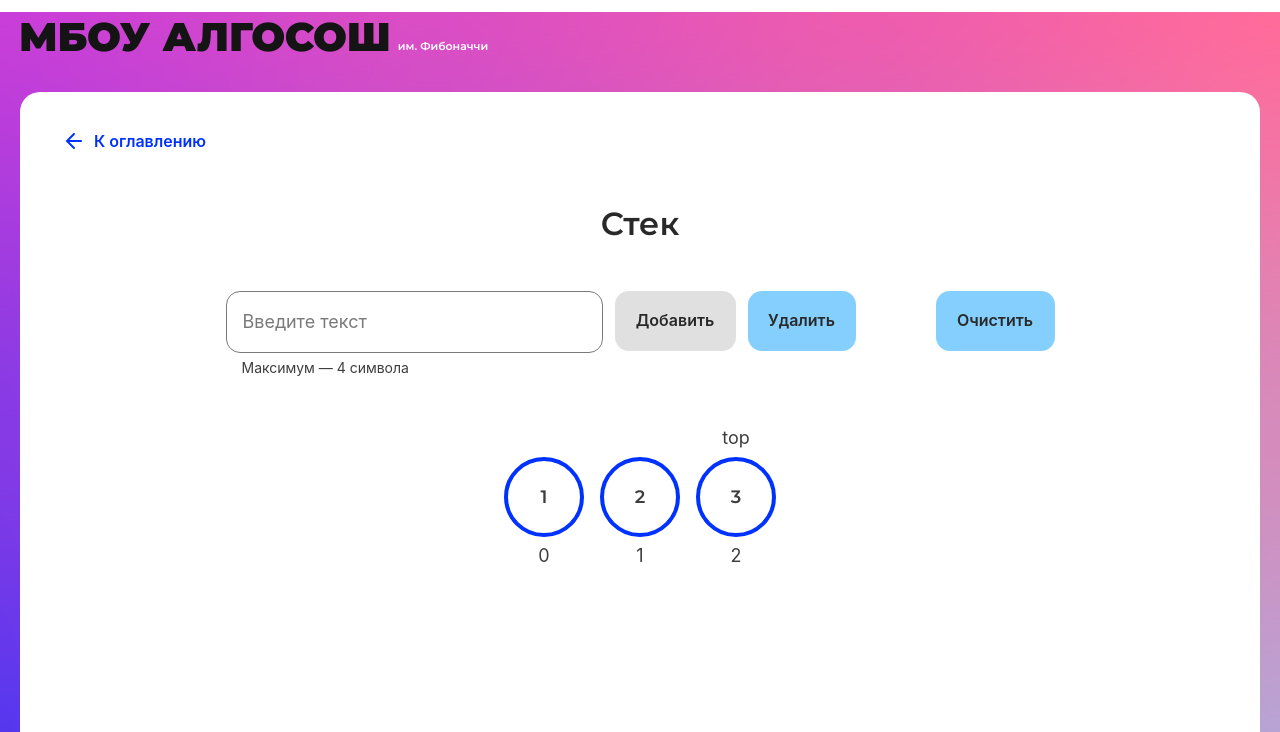
Test: stack page display correctly › should elements delete from the stack correctly
Click the button with test id "deleteBtn": x=802, y=321 [748,291,856,351]
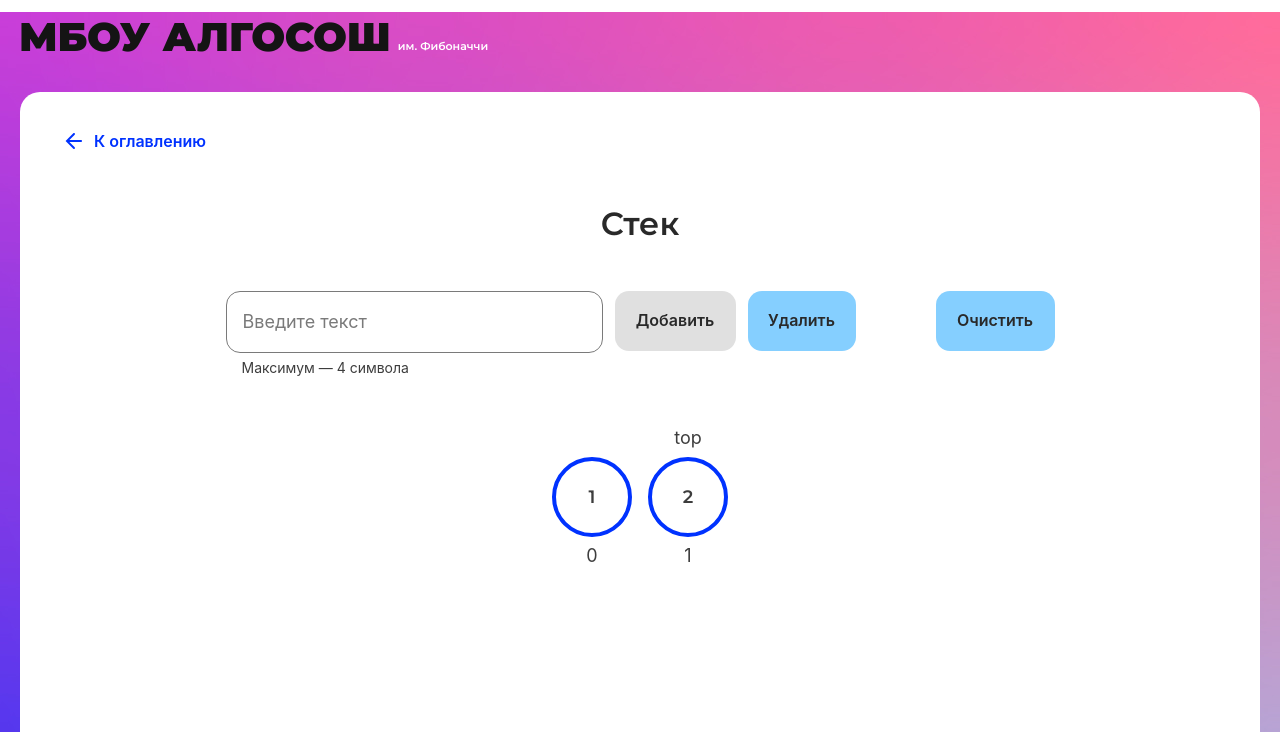
Check: the text with test id "index" reads "0", box [586,545,597,566]
Check: the number of elements with test id "circle" is 2, box [683,486,694,508]
Click the button with test id "deleteBtn": x=802, y=321 [748,291,856,351]
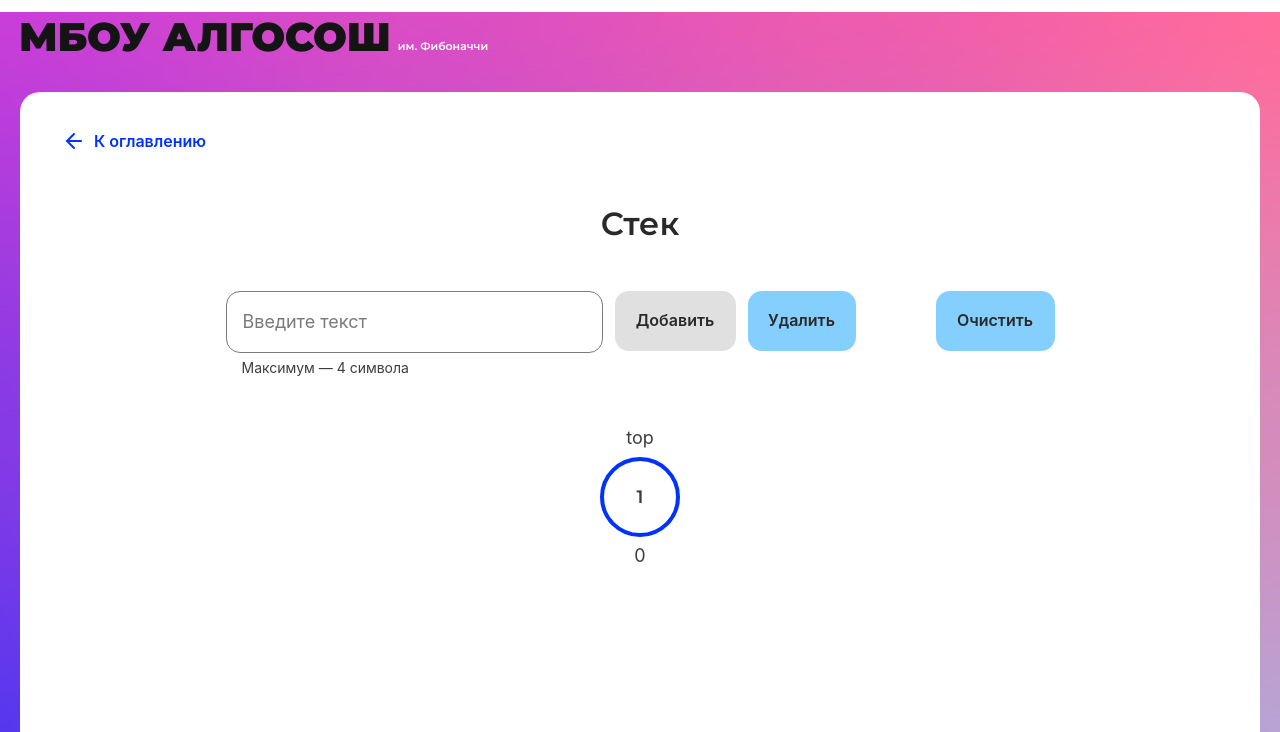
Check: the text with test id "circle" reads "1", box [637,486,644,508]
Check: the number of elements with test id "circle" is 1, box [600,457,680,537]
Click the button with test id "deleteBtn": x=802, y=321 [748,291,856,351]
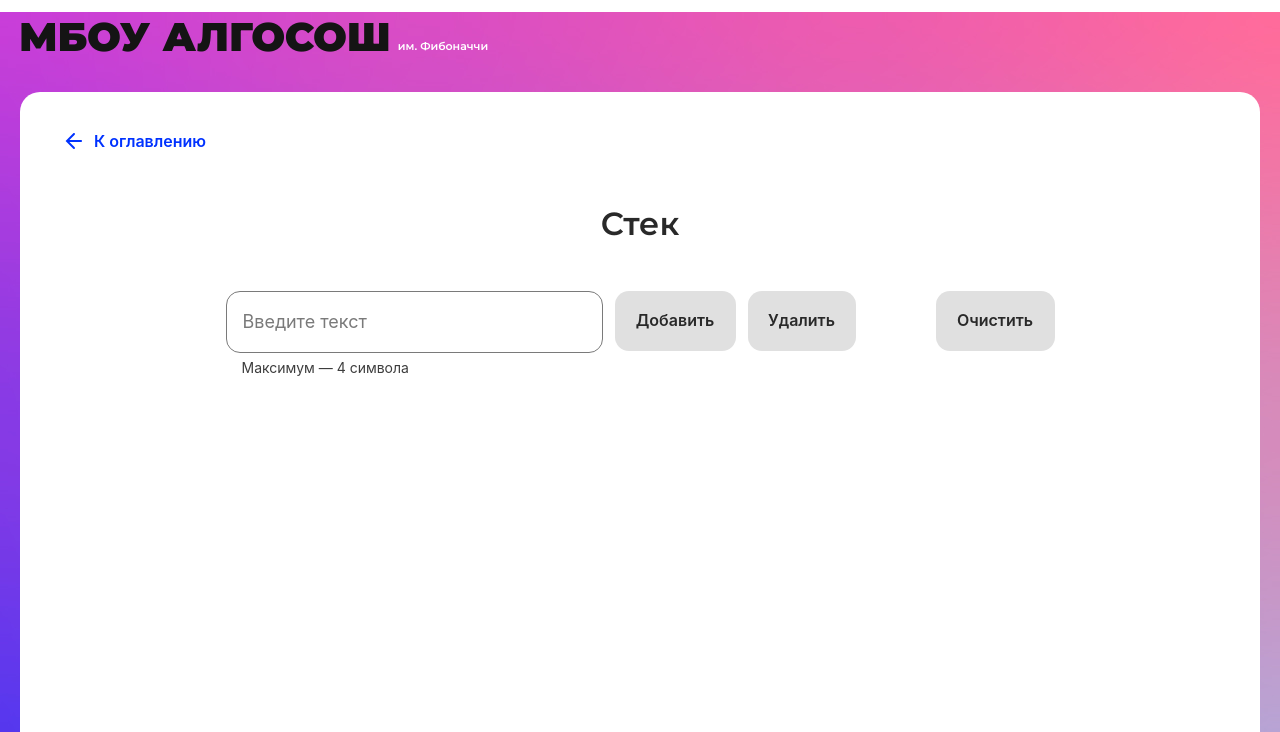
Check: no elements with test id "circle-cont" are shown
